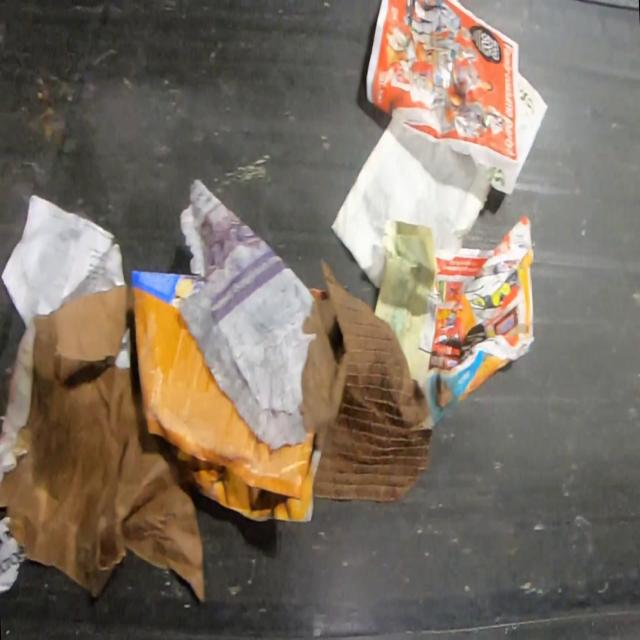cardboard: (129, 270, 321, 522), (298, 262, 431, 502)
